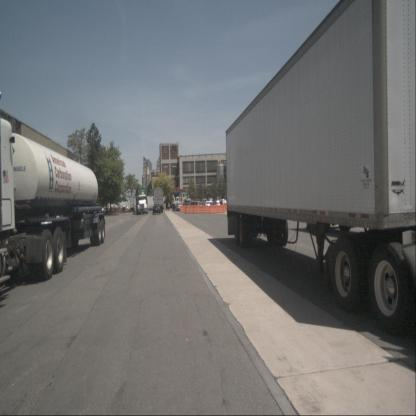barrier: (210, 204, 218, 214), (196, 205, 204, 214), (203, 205, 210, 214), (217, 204, 223, 214), (185, 206, 191, 214), (191, 206, 196, 214), (180, 206, 185, 212), (224, 204, 227, 212)
